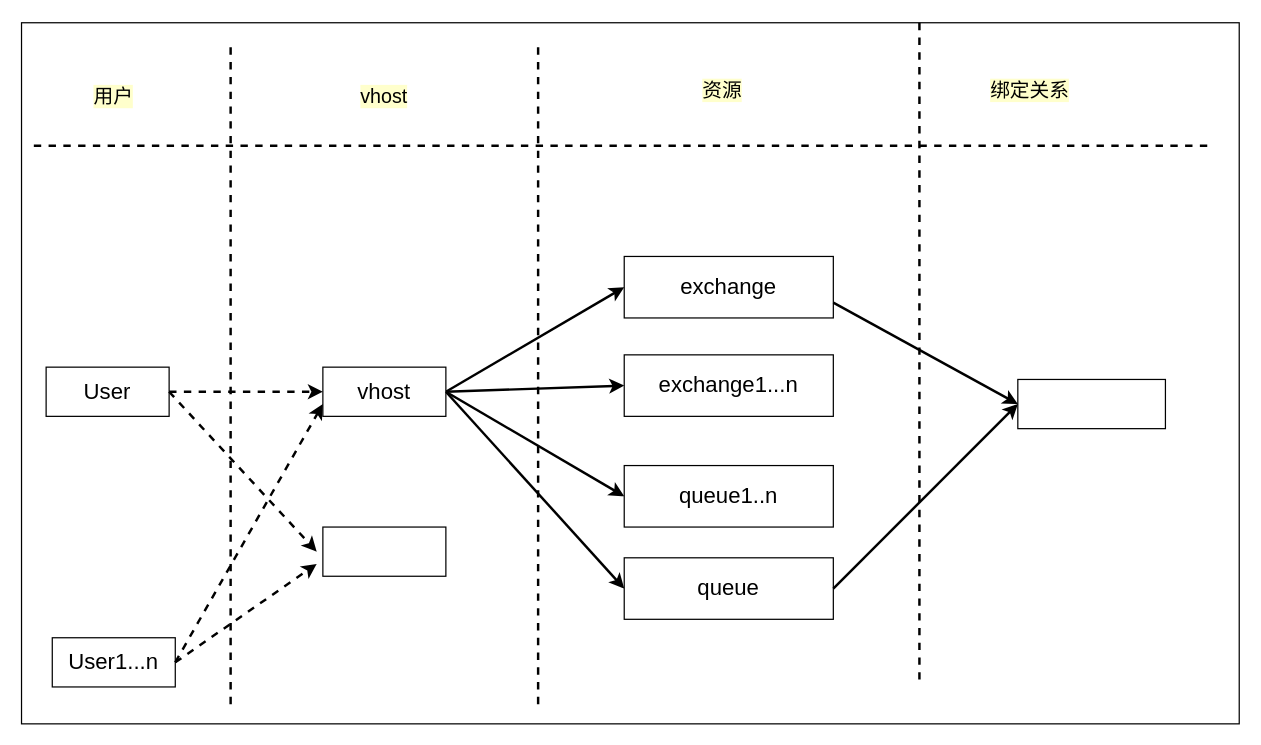
Some shapes in this 1261 by 745 pixel diagram are drawn without their labels. The box of each missing label's shape, as (x1, y1, x2, y2) in pixels:
binding: (1017, 378, 1165, 429)
vhost1...n: (322, 526, 446, 576)
